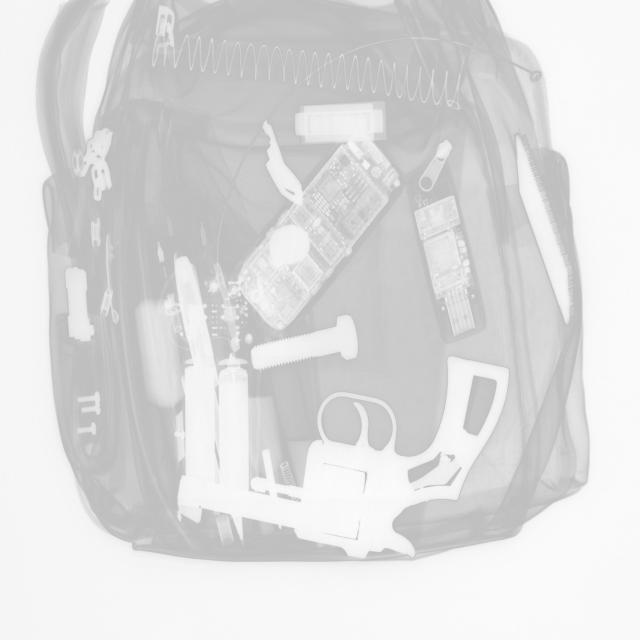grenade: (184, 108, 415, 351)
